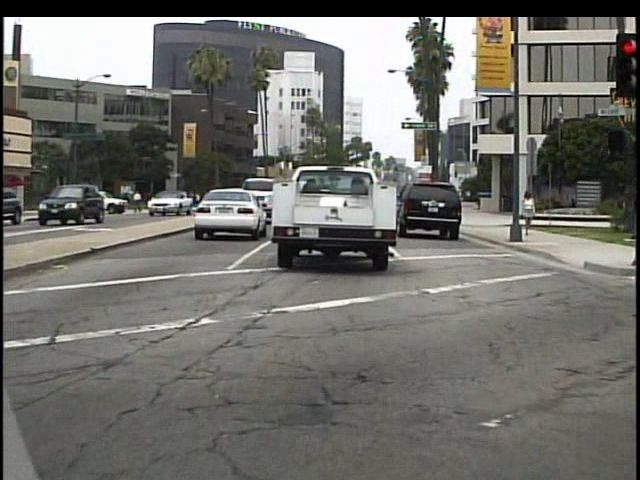person: (520, 188, 539, 241), (134, 188, 146, 217)
